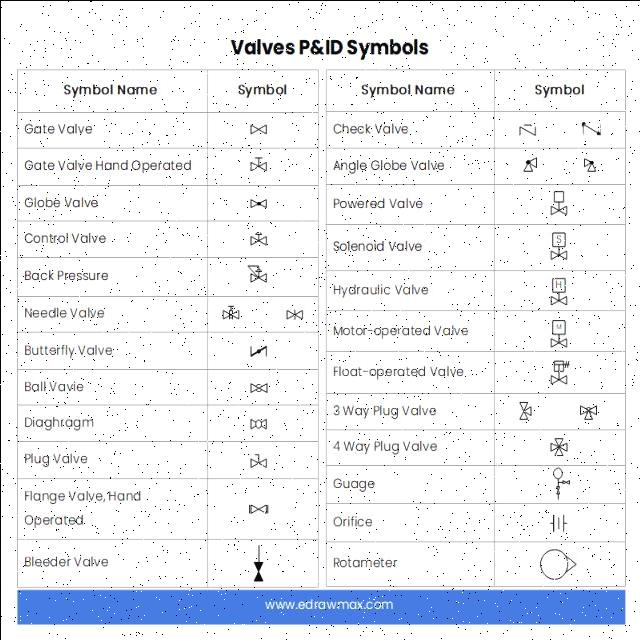3 Way Gate Valve: (509, 395, 533, 423), (576, 398, 602, 421)
4 Way Gate Valve: (548, 432, 567, 459)
Angle GlobeValve: (516, 151, 544, 182), (575, 153, 599, 174)
BackPressure Regulator: (240, 262, 272, 282)
Ball Valve: (243, 376, 271, 396), (246, 412, 270, 432)
Bleeder Valve: (244, 543, 269, 583)
Butterfly Valve: (239, 338, 271, 359)
Check Valve: (577, 115, 609, 138), (510, 118, 542, 138)
Cock Valve: (240, 448, 270, 468)
Flanged: (243, 492, 272, 522)
Float Operated Valve: (542, 355, 572, 387)
Gate Valve: (246, 120, 270, 136)
Gauge: (544, 462, 572, 500)
Globe Valve: (242, 192, 270, 212)
Hand Operated Gate Valve: (240, 153, 275, 175)
Hydraulic Operated Gate Valve: (546, 274, 573, 304)
Motor Operated Gate Valve: (544, 312, 572, 348)
Needle Valve: (213, 301, 243, 321), (280, 302, 306, 322)
Orifice: (542, 508, 578, 536)
Pneumatic-Diaphragm Gate Valve: (240, 223, 272, 249)
Powered Gate Valve: (542, 188, 574, 218)
Rotameter: (532, 544, 582, 582)
Solenoid Operated Gate Valve: (544, 226, 570, 263)
